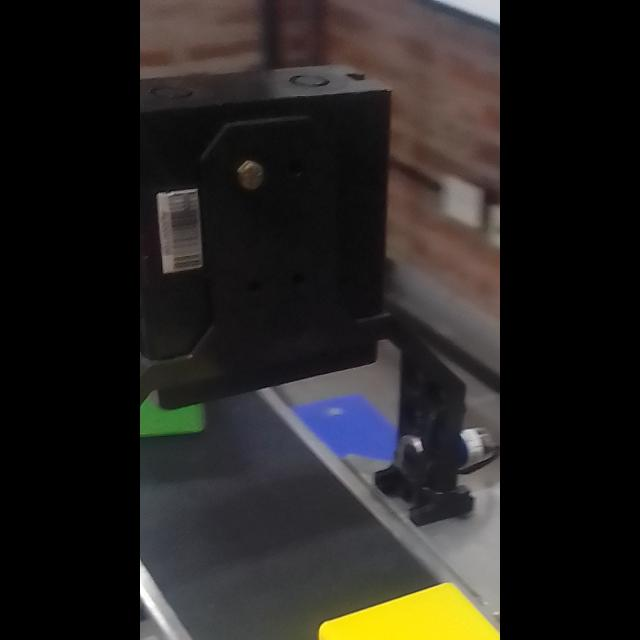yellowBox: (304, 576, 500, 640)
